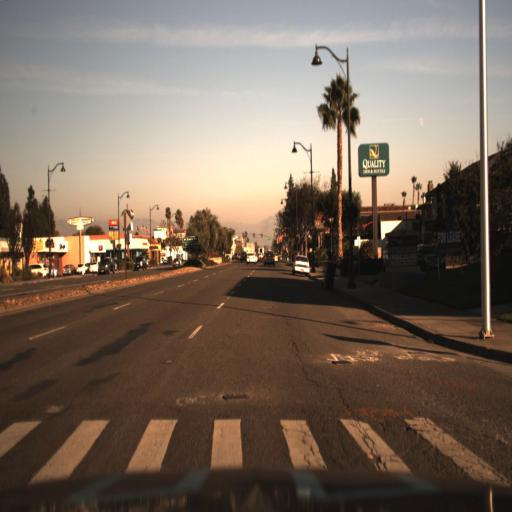car: (413, 237, 452, 277), (22, 258, 50, 284), (289, 253, 314, 282), (58, 259, 77, 278), (95, 257, 113, 277), (84, 256, 100, 276), (263, 247, 277, 269), (244, 248, 260, 267), (75, 258, 89, 275), (84, 261, 98, 276)
